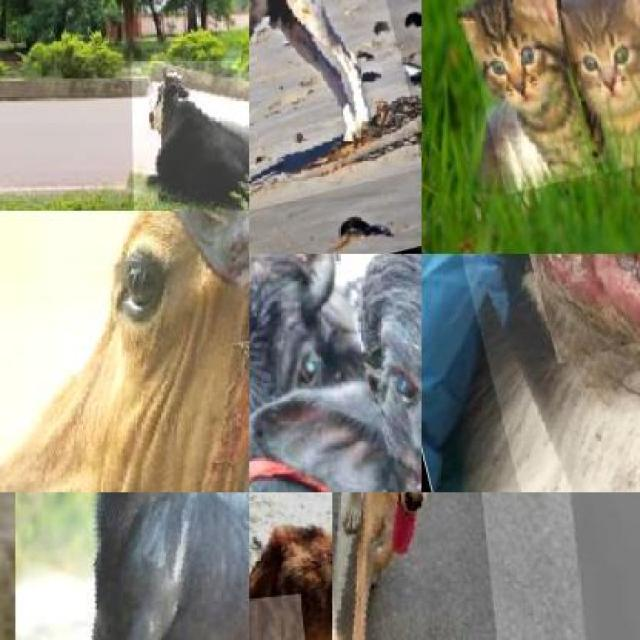buffalo: (249, 254, 422, 492), (16, 492, 250, 640), (313, 254, 422, 492)
cat: (457, 0, 598, 194), (560, 0, 640, 174)
cow: (0, 211, 249, 492), (129, 57, 249, 211)
dog: (421, 253, 640, 492), (249, 0, 422, 249), (332, 492, 505, 640), (250, 492, 332, 640)
injured: (202, 211, 249, 492), (521, 254, 640, 363), (249, 592, 323, 640)
